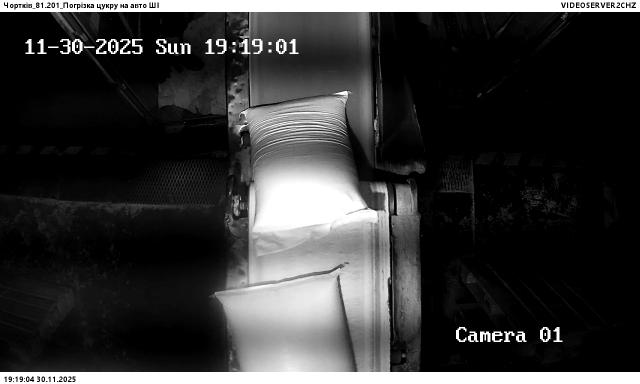bag: (244, 91, 379, 233), (215, 268, 358, 371)
